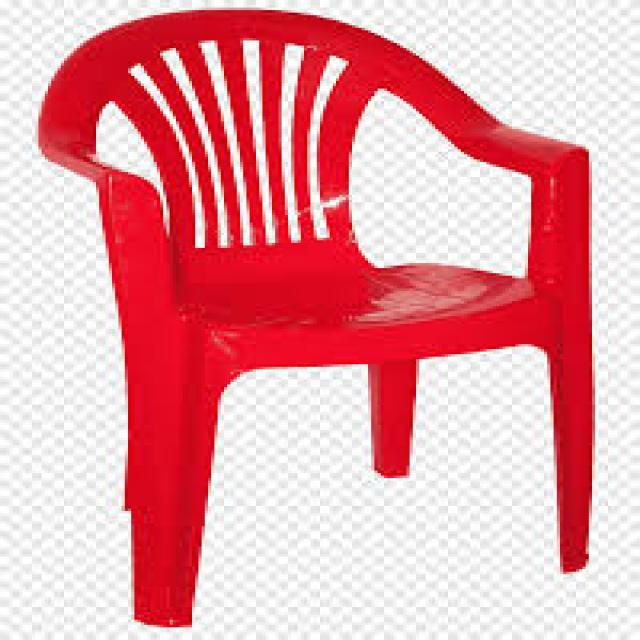chair: (25, 1, 603, 629)
